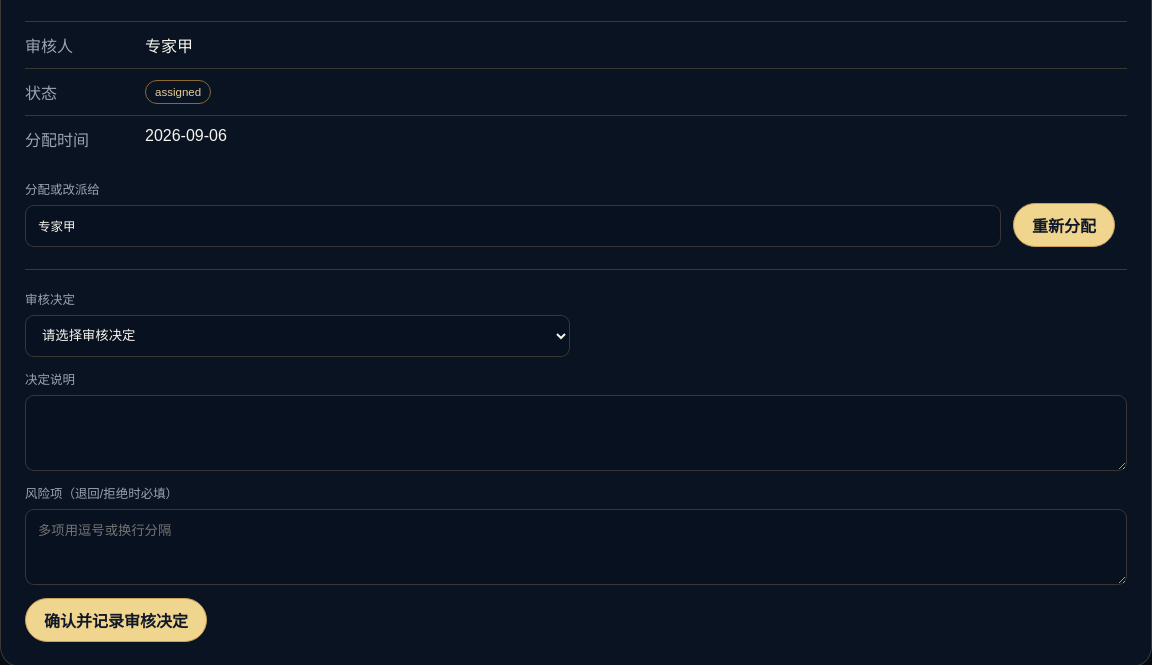
ReviewWorkflowPanel evidence upload › requires an explicit decision and record-specific confirmation
(page scrolled)
Expected: the button "确认并记录审核决定" is disabled, [25,598,207,642]
Select "通过" in the dropdown labelled "审核决定" at (297, 336), box [25,315,570,357]
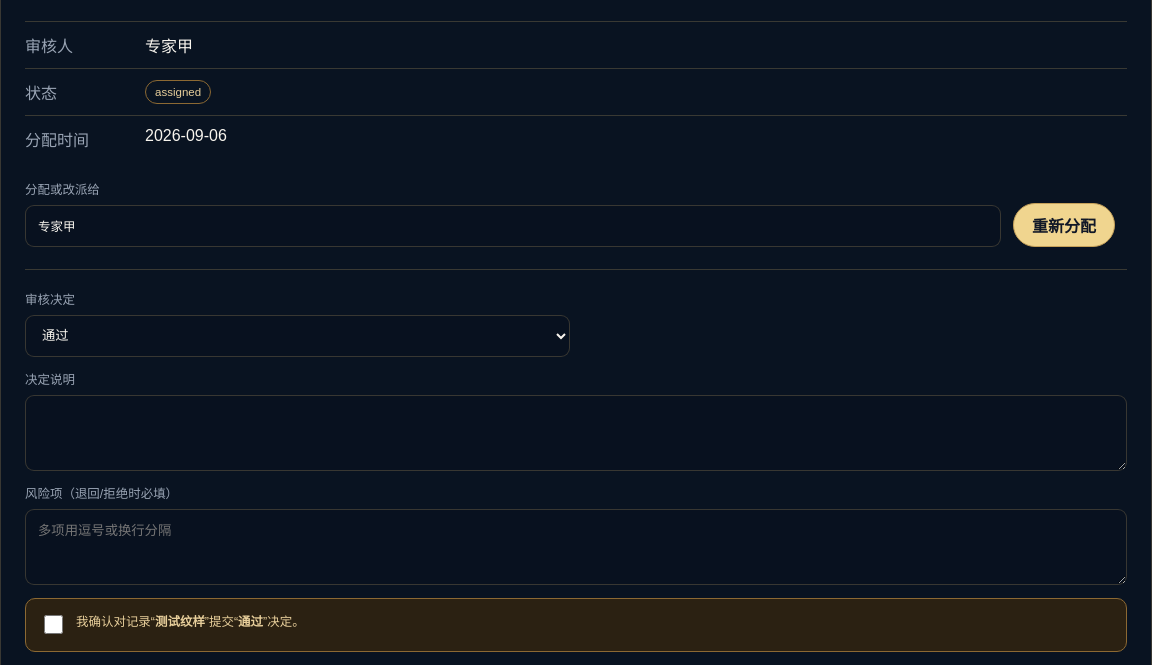
Expected: the text "我确认对记录“测试纹样”提交“通过”决定。" is shown, [76,613,305,632]
Click the checkbox labelled "我确认对记录“测试纹样”提交“通过”决定。".
click(54, 624)  # box [44,615,63,634]
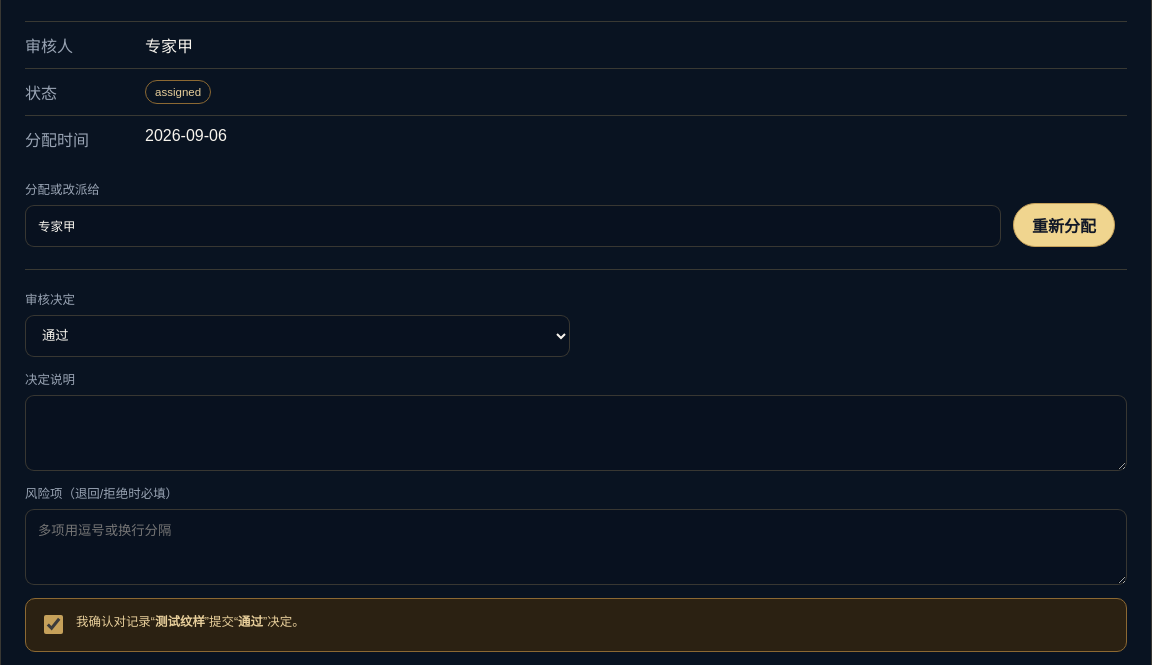
Select "拒绝" in the dropdown labelled "审核决定" at (297, 336), box [25,315,570,357]
(page scrolled)
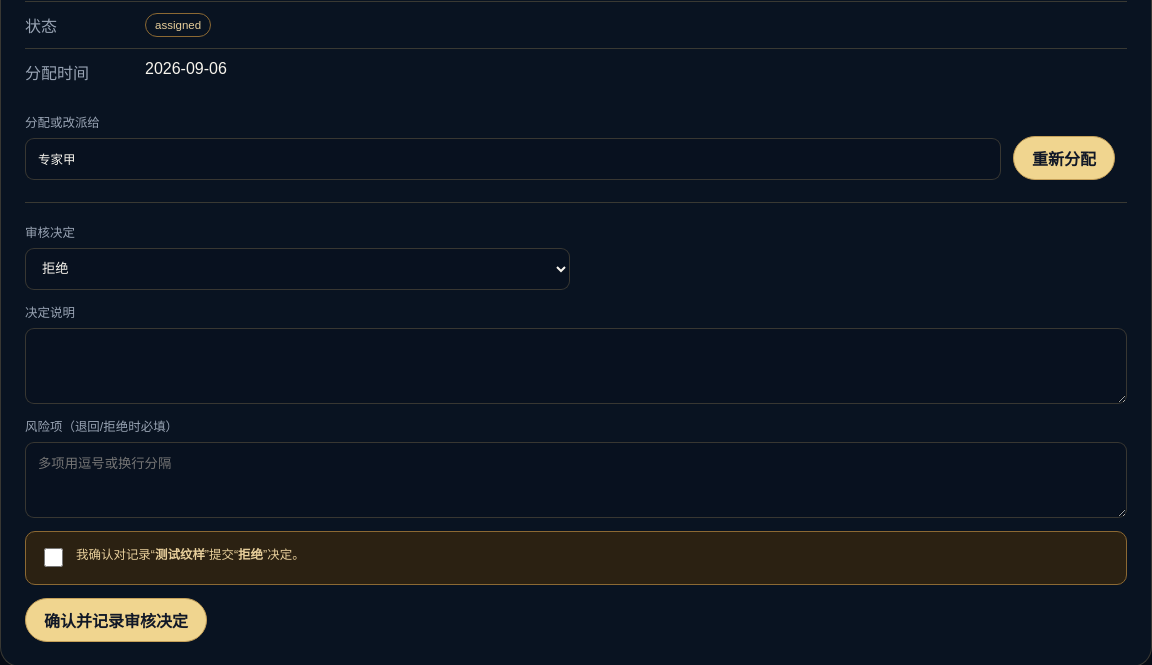
Expected: the button "确认并记录审核决定" is disabled, [25,598,207,642]
